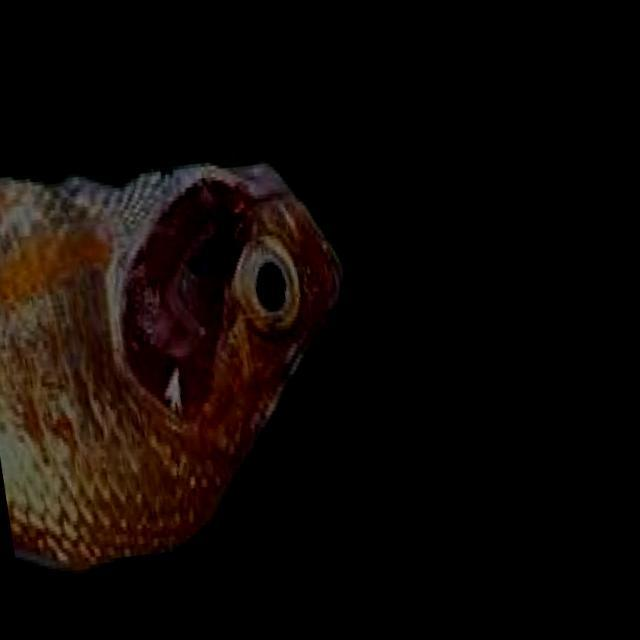Gill Disease: (0, 170, 351, 571)
